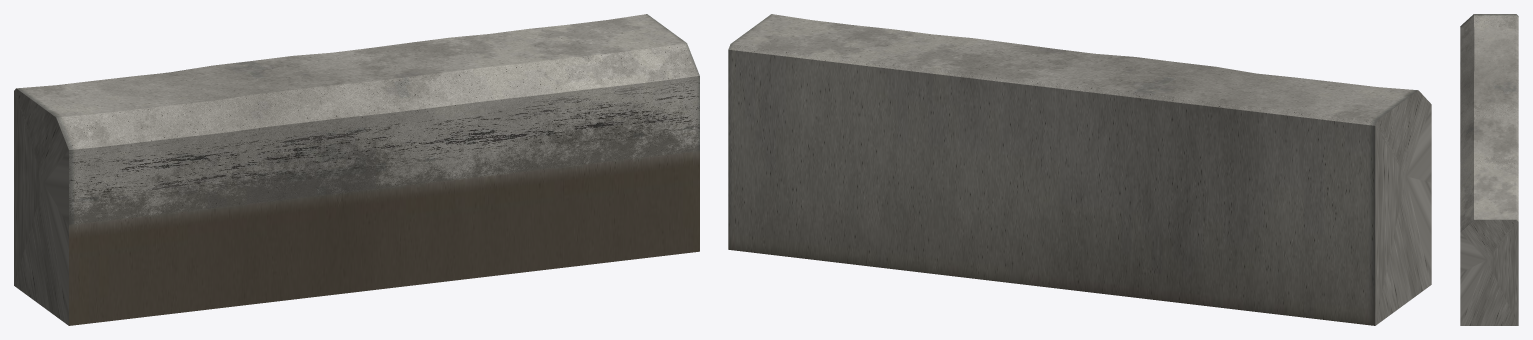
The model's file is curb_ramp_down_web.glb.
3 views of the same model, side by side, from view 1: azimuth 30°, elevation 25°; view 2: azimuth 150°, elevation 25°; view 3: azimuth 270°, elevation 25° (orthographic). The views are drawn at different scales.
Visible parts, largest first — view 1: curb_ramp_down_Mesh; view 2: curb_ramp_down_Mesh; view 3: curb_ramp_down_Mesh.
Boxes of the visible parts, left/top/right/bottom form: curb_ramp_down_Mesh: left=14, top=14, right=699, bottom=325; curb_ramp_down_Mesh: left=728, top=14, right=1431, bottom=325; curb_ramp_down_Mesh: left=1460, top=14, right=1518, bottom=325.
Size of the model in its own units: 0.995 by 0.42 by 0.15.
1 material, 1 textured.
